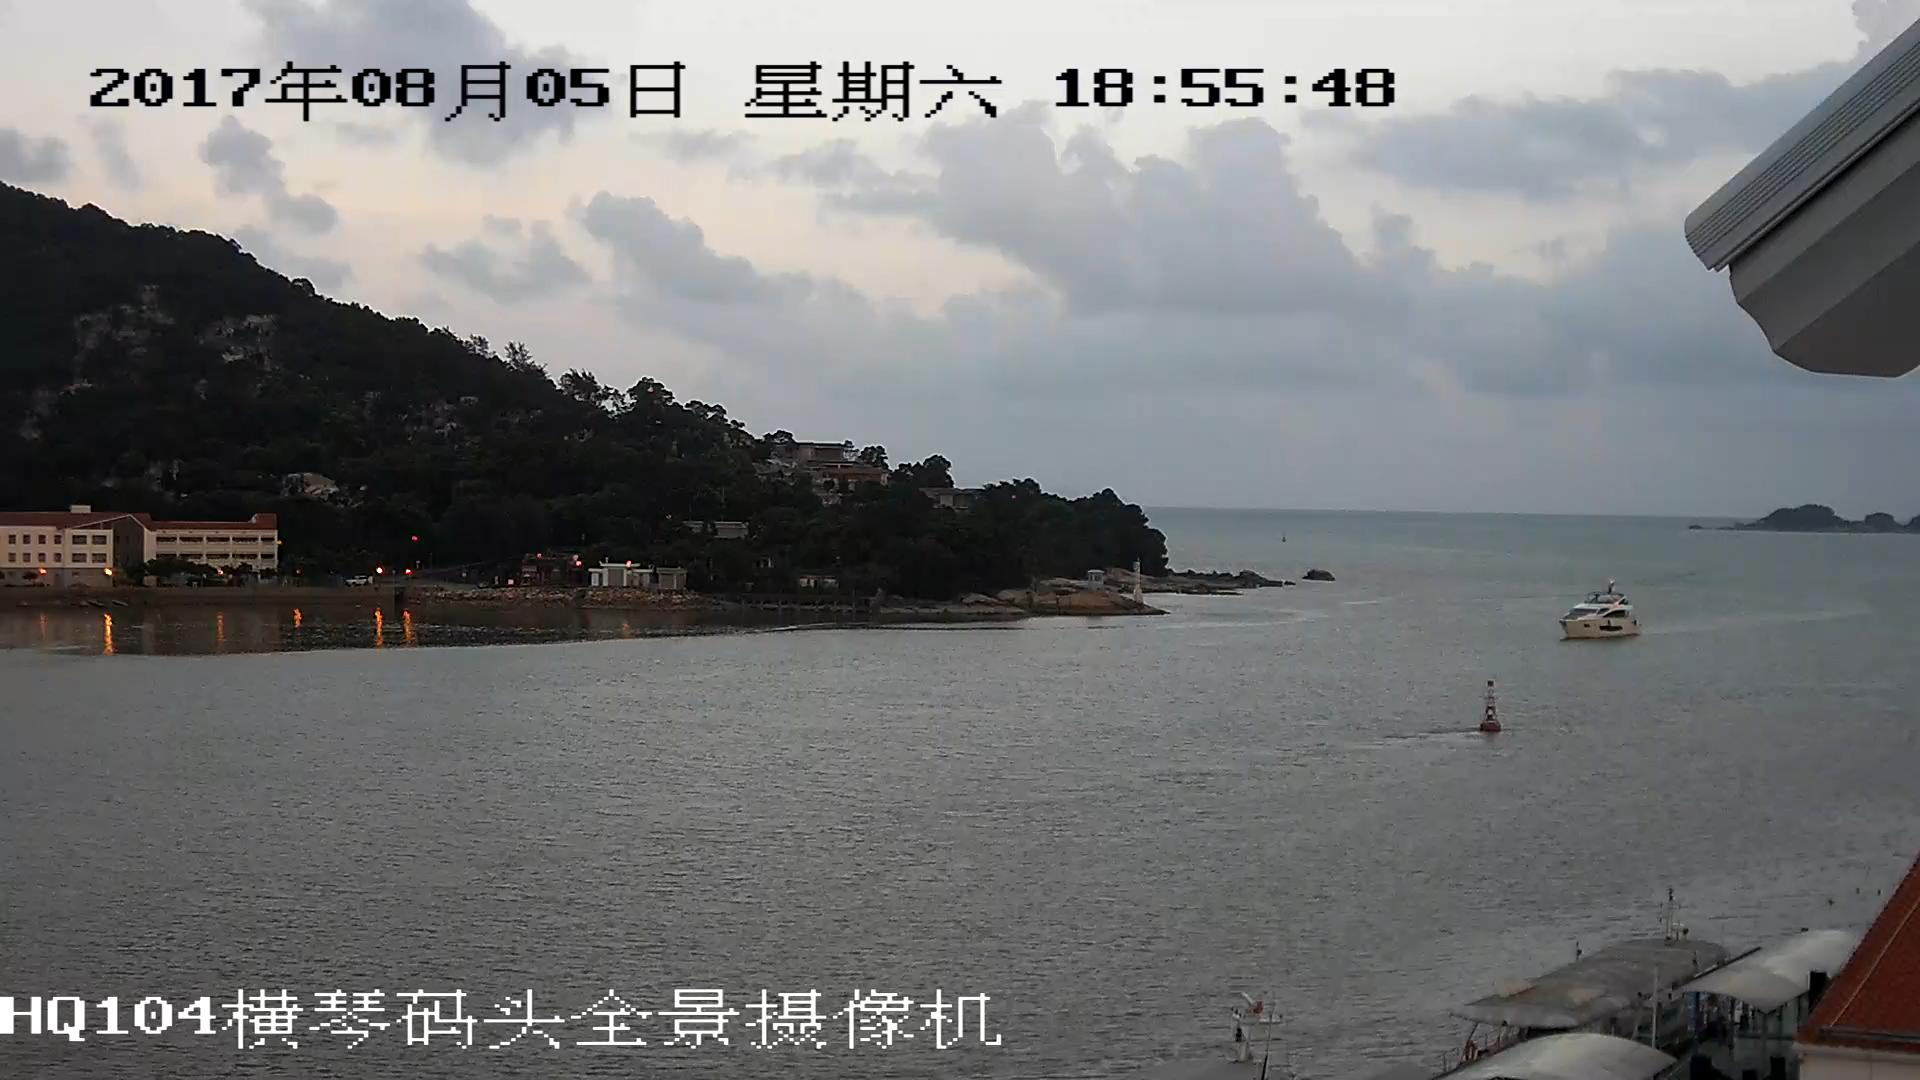passenger ship: (1557, 588, 1643, 638)
